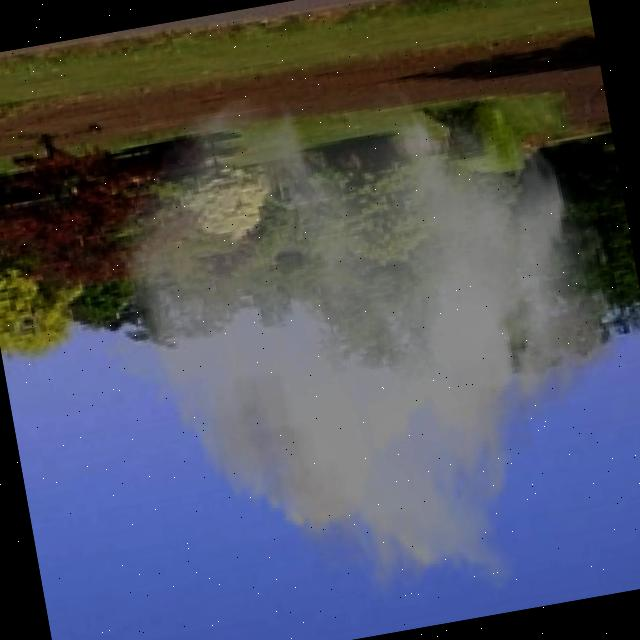smoke: (62, 35, 640, 640)
